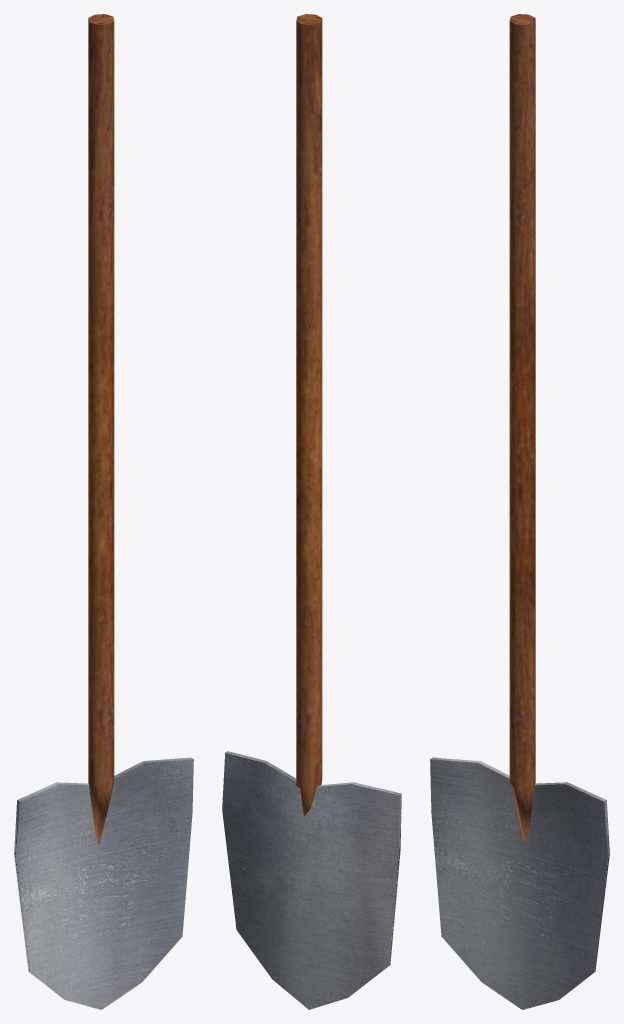
The model's file is Shovel.fbx.
3 renders of one model, left to right at view 1: azimuth 30°, elevation 25°; view 2: azimuth 150°, elevation 25°; view 3: azimuth 330°, elevation 25°, orthographic.
Visible parts, largest first — view 1: Shovel; view 2: Shovel; view 3: Shovel.
Boxes of the visible parts, x1,y1,x2,y2 form: Shovel: (14,14,193,1009); Shovel: (222,14,401,1009); Shovel: (430,14,609,1009).
Size of the model in its own units: 26.38 by 142 by 3.51.
